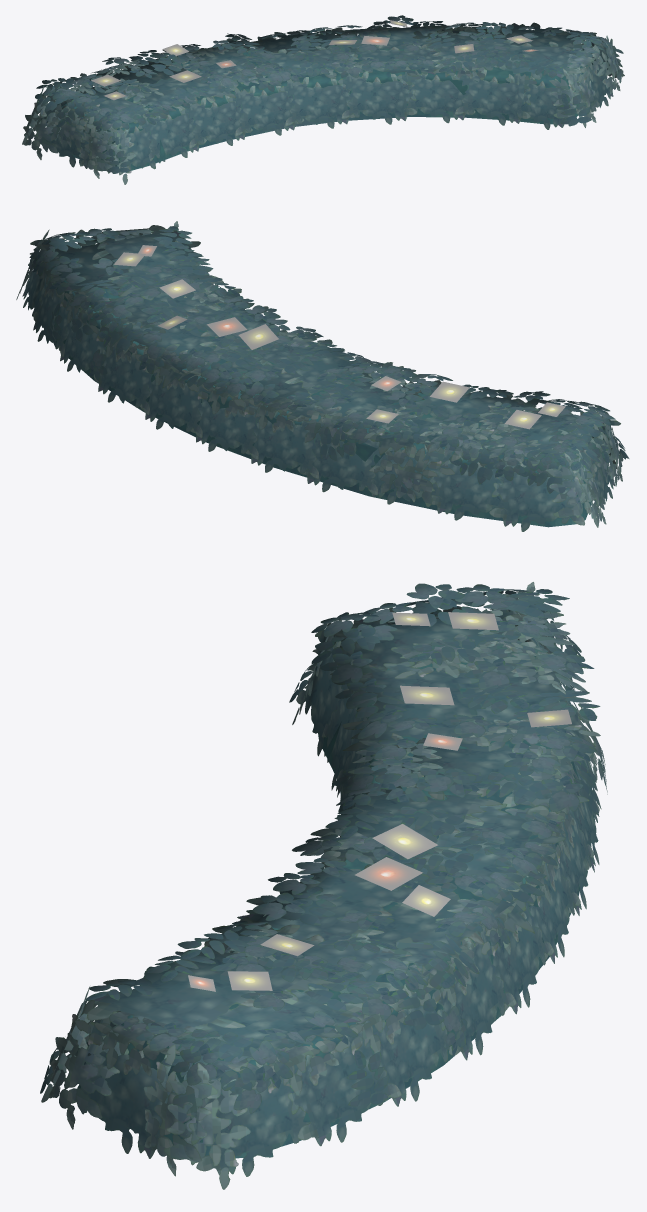
The model's file is pref_sm_beach_winter_techvegetation04_lv3.fbx.
3 views of the same model, one above another, from view 1: azimuth 30°, elevation 25°; view 2: azimuth 150°, elevation 25°; view 3: azimuth 270°, elevation 25° (orthographic). The views are drawn at different scales.
Parts seen in each view (by area): view 1: pref_sm_beach_winter_techvegetation04_lv3, sm_beach_winter_techvegetation04b_lv3; view 2: pref_sm_beach_winter_techvegetation04_lv3, sm_beach_winter_techvegetation04b_lv3; view 3: pref_sm_beach_winter_techvegetation04_lv3, sm_beach_winter_techvegetation04b_lv3.
Boxes of the visible parts, <box> form: pref_sm_beach_winter_techvegetation04_lv3: <box>22,15,624,184</box>; sm_beach_winter_techvegetation04b_lv3: <box>91,20,538,100</box>; pref_sm_beach_winter_techvegetation04_lv3: <box>16,221,629,531</box>; sm_beach_winter_techvegetation04b_lv3: <box>114,245,565,429</box>; pref_sm_beach_winter_techvegetation04_lv3: <box>40,582,607,1189</box>; sm_beach_winter_techvegetation04b_lv3: <box>188,612,571,991</box>.
Bounding box in the file's own units: 11.03 × 1.38 × 5.27.
